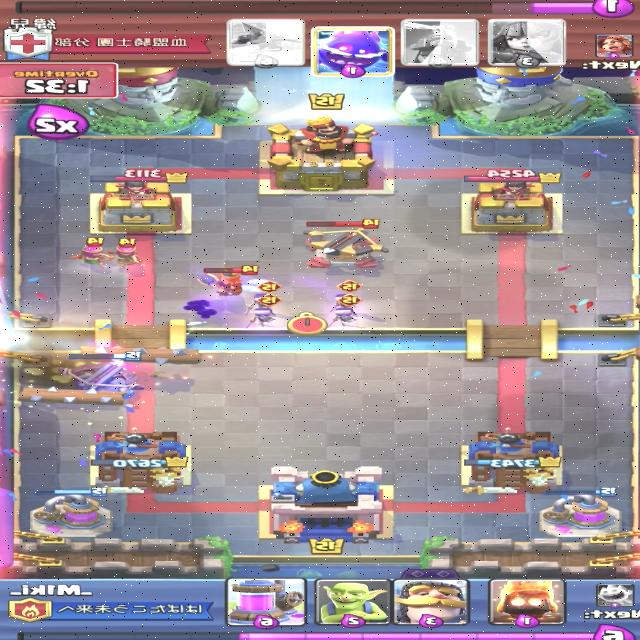Enemy-Archer: (109, 236, 147, 272), (69, 237, 112, 265)
Enemy-Log: (12, 384, 132, 407)
Enemy-Skeleton-Evo: (330, 293, 362, 329), (250, 280, 285, 310), (251, 295, 280, 330), (330, 280, 361, 308)
Enemy-Valkyrie: (194, 265, 260, 299)
Enemy-XBow: (300, 218, 390, 270)
Player-ElixirPump: (27, 486, 113, 540), (535, 487, 623, 539)
Player-XBow: (48, 351, 142, 400)
